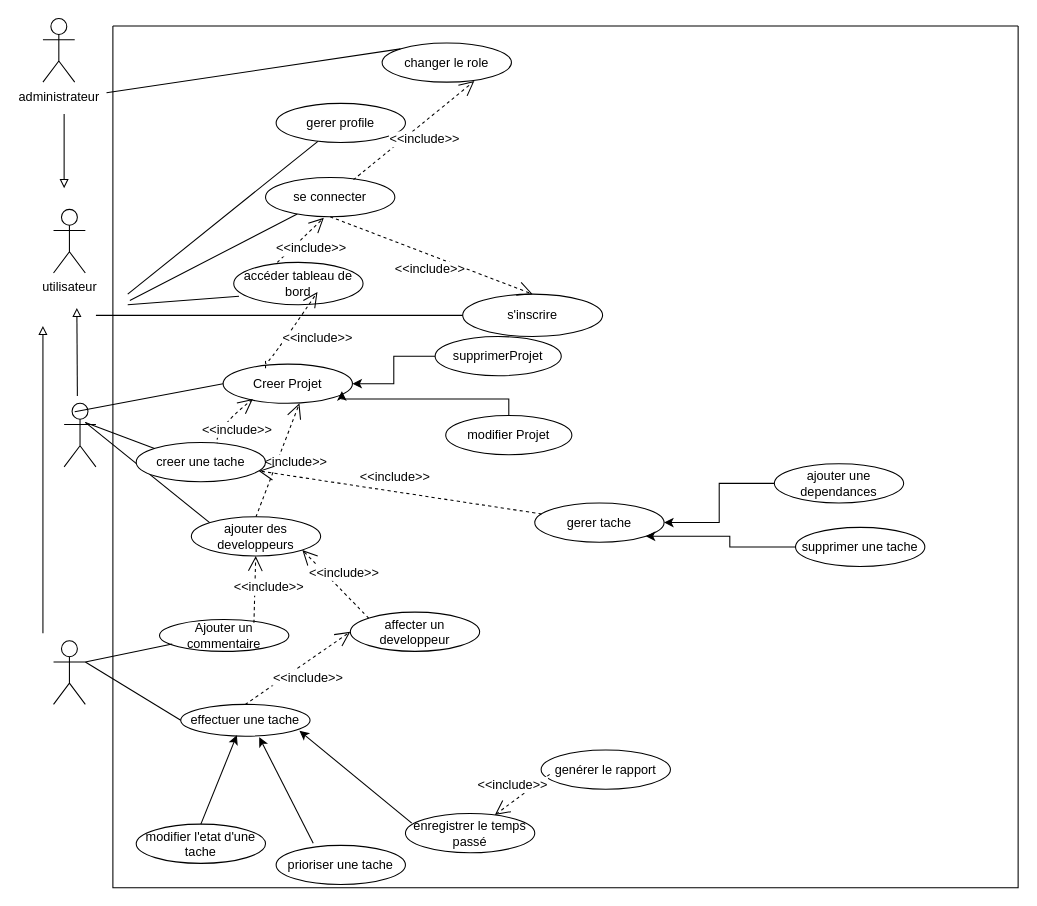
The diagram is 1037 pixels wide and 906 high, and some of its shapes have lost their labels. The centre of each missing label's shape, as x and y in pixels:
chefDeprojet: (79,434)
developpeur: (68,672)
